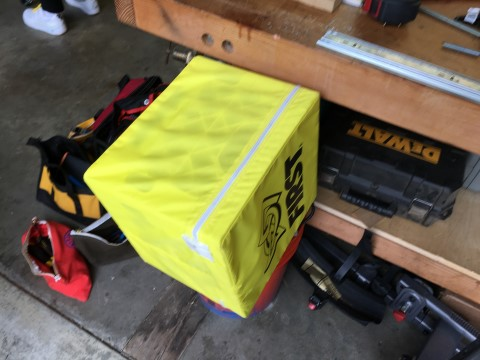cube: (82, 55, 322, 320)
